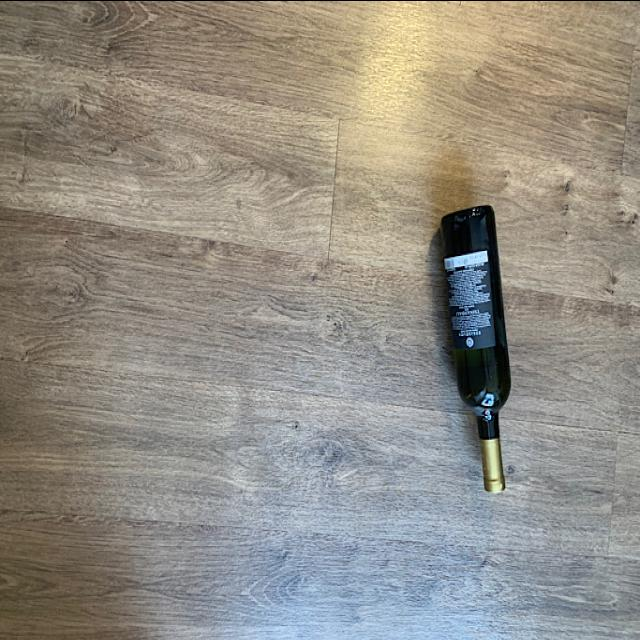litter: (438, 204, 512, 495)
